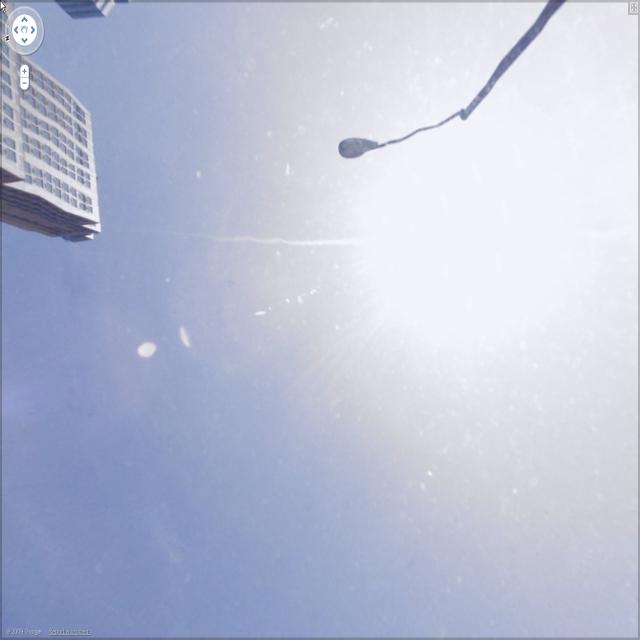b_1: (0, 20, 116, 238), (81, 1, 134, 16)
